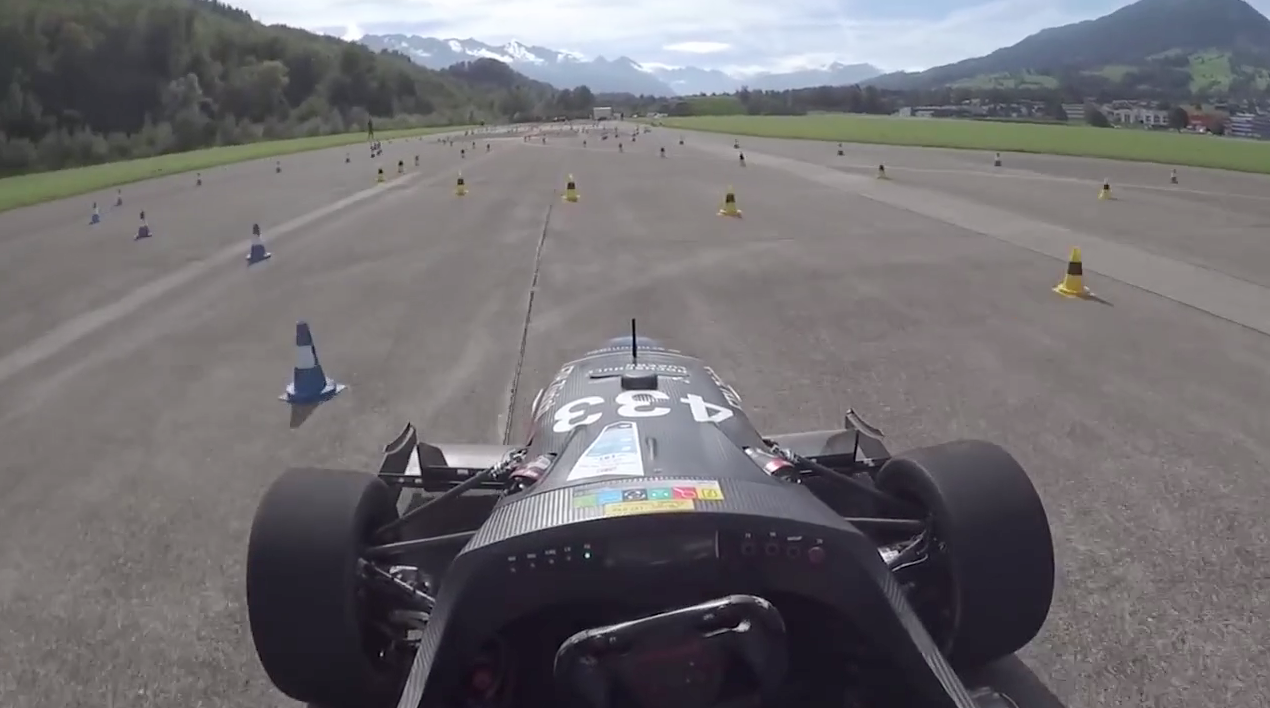lcone: (269, 314, 352, 411), (237, 218, 274, 268), (130, 207, 157, 243)
rcone: (1048, 240, 1101, 304), (714, 179, 748, 222), (560, 170, 586, 204)
